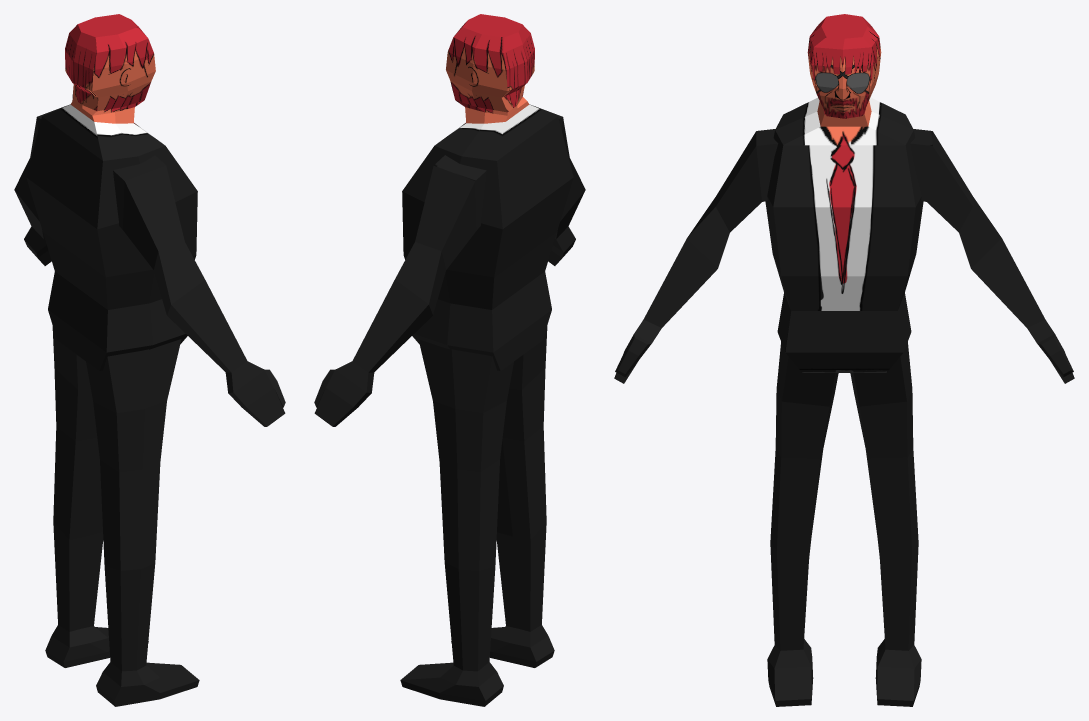
Rendered from Tireur.fbx.
3 views of the same model, side by side, from view 1: azimuth 30°, elevation 25°; view 2: azimuth 150°, elevation 25°; view 3: azimuth 270°, elevation 25° (orthographic).
Parts seen in each view (by area): view 1: Cube; view 2: Cube; view 3: Cube.
Part boxes in pixels (left/top/right/bottom): Cube: left=14, top=14, right=285, bottom=706; Cube: left=314, top=14, right=585, bottom=706; Cube: left=614, top=14, right=1074, bottom=706.
Bounding box in the file's own units: 79.62 × 440 × 281.
Materials: 1 (1 with a texture image).
